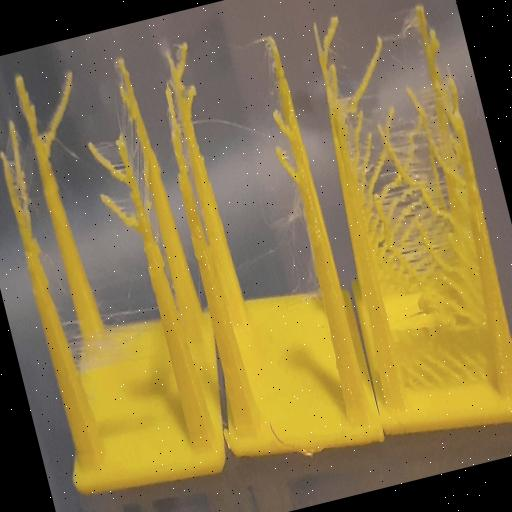stringing: (338, 80, 512, 380), (317, 0, 439, 114), (110, 74, 166, 230), (27, 63, 99, 164), (86, 134, 142, 244), (1, 120, 48, 230), (262, 98, 310, 202), (168, 40, 212, 124)
